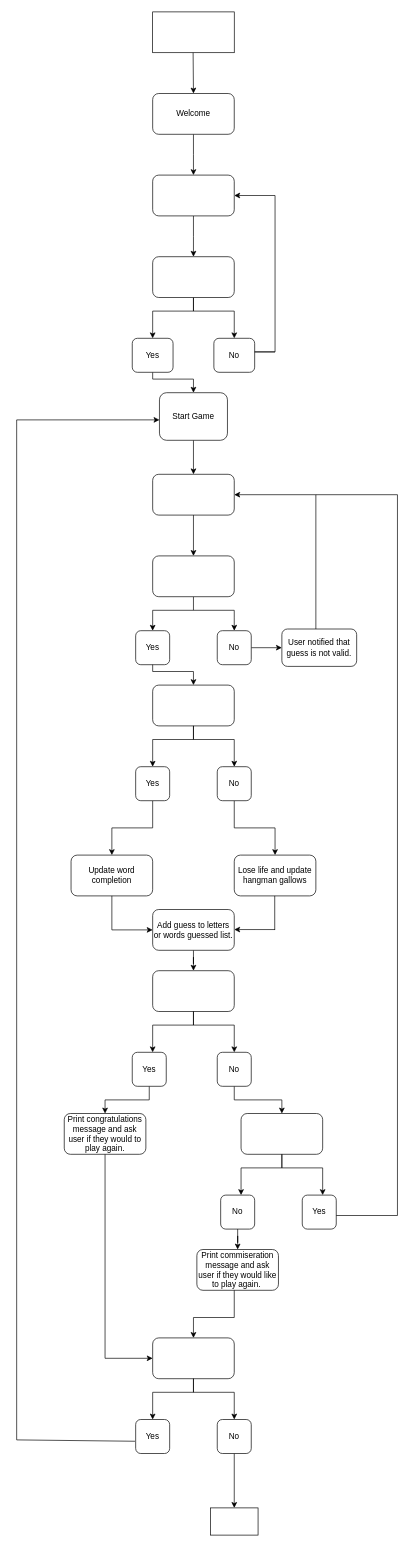
This 410x1547 diagram has some shape labels left out. Here are the shapes that lost their labels. From the top down, the box of each, then its label:
(152, 11, 234, 53): START
(152, 174, 234, 216): Username Input
(152, 256, 234, 298): Is username valid?
(152, 474, 234, 515): Guess Input
(152, 555, 234, 597): Is guess valid?
(152, 684, 234, 726): Is guess correct?
(152, 970, 234, 1012): Is the word completed?
(240, 1113, 323, 1154): Does user have lives remaining?
(152, 1337, 234, 1379): Play again?
(210, 1507, 258, 1535): END
